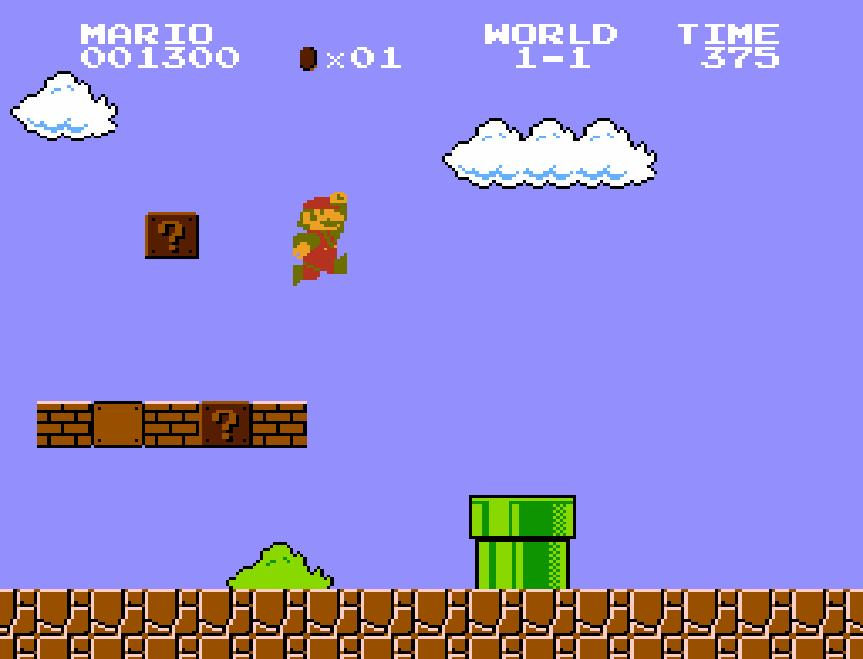big_mario: (291, 189, 349, 287)
